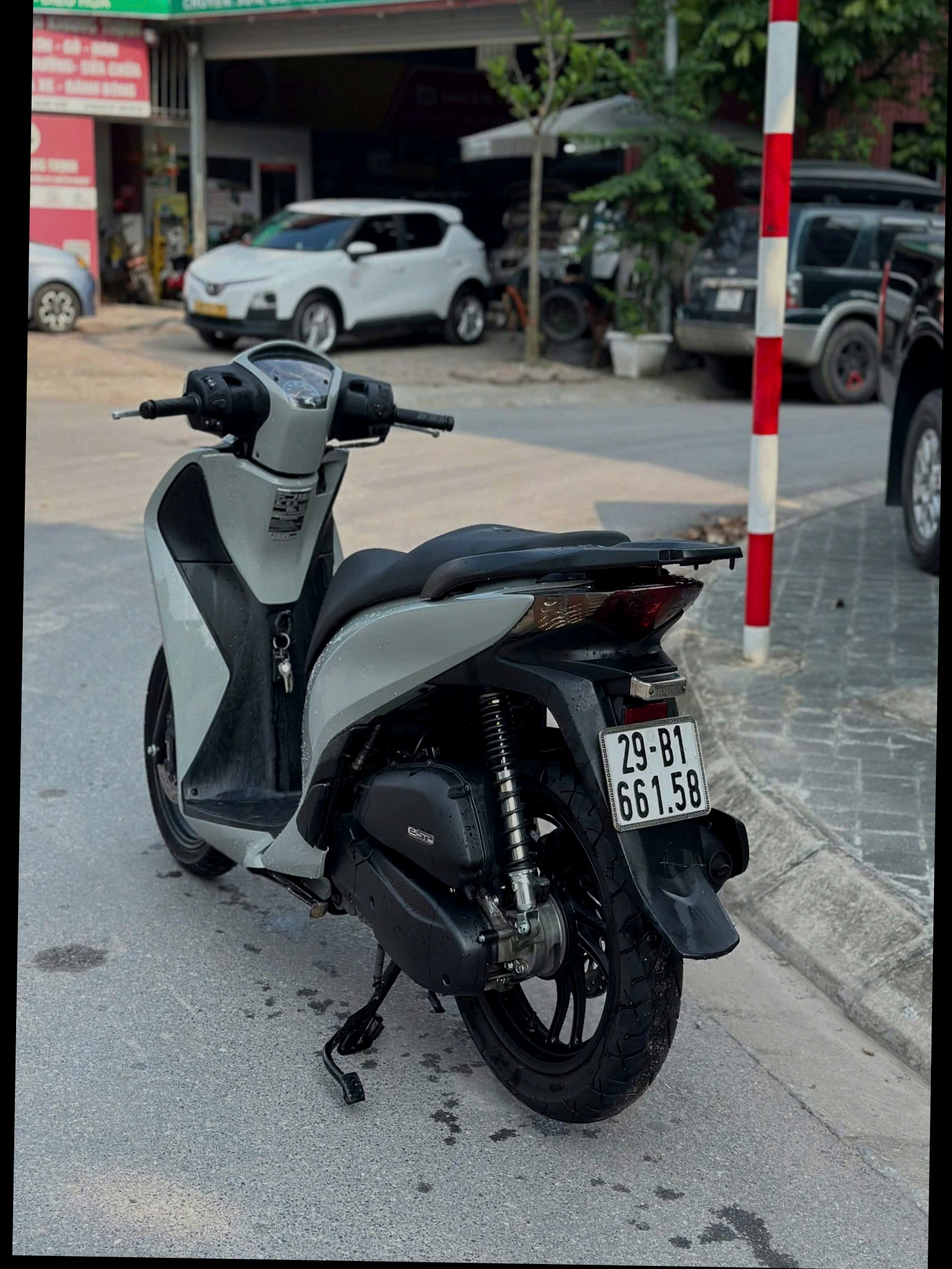Bien-so: (612, 755, 751, 880)
